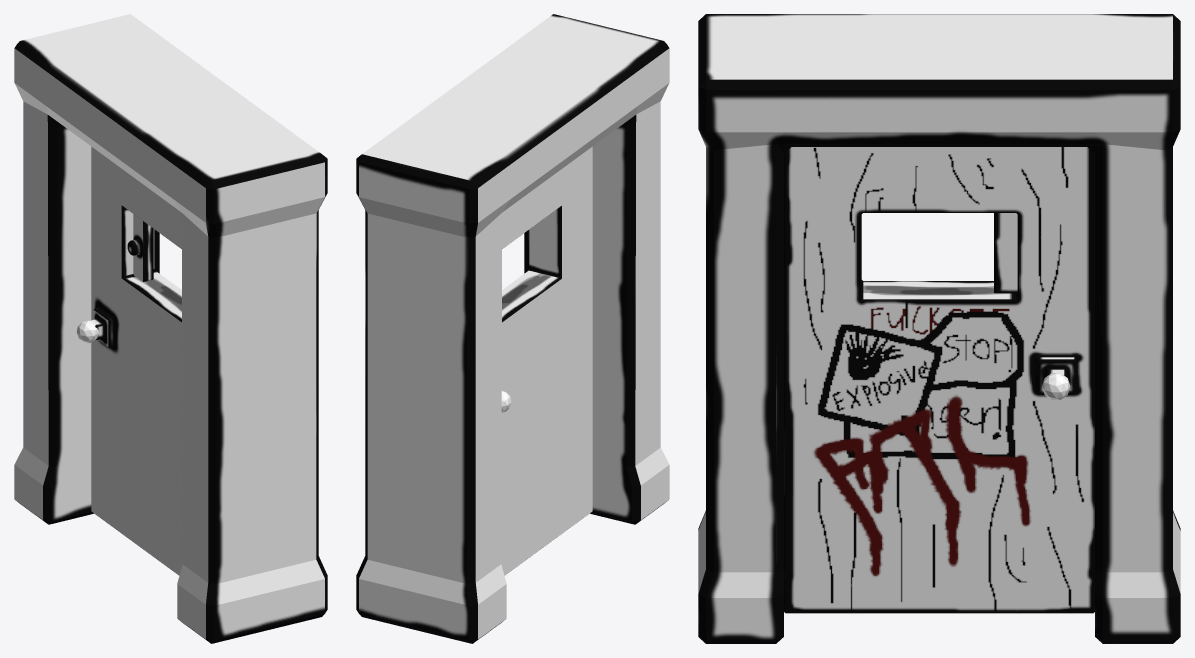
The model's file is door 3.fbx.
The picture shows the model from 3 angles, left to right: view 1: azimuth 30°, elevation 25°; view 2: azimuth 150°, elevation 25°; view 3: azimuth 270°, elevation 25°; orthographic projection. The views are drawn at different scales.
Parts seen in each view (by area): view 1: Cube; view 2: Cube; view 3: Cube.
Boxes of the visible parts, x1,y1,x2,y2 form: Cube: (14, 14, 327, 643); Cube: (356, 14, 669, 643); Cube: (698, 14, 1180, 643).
Size of the model in its own units: 220 by 800 by 620.
